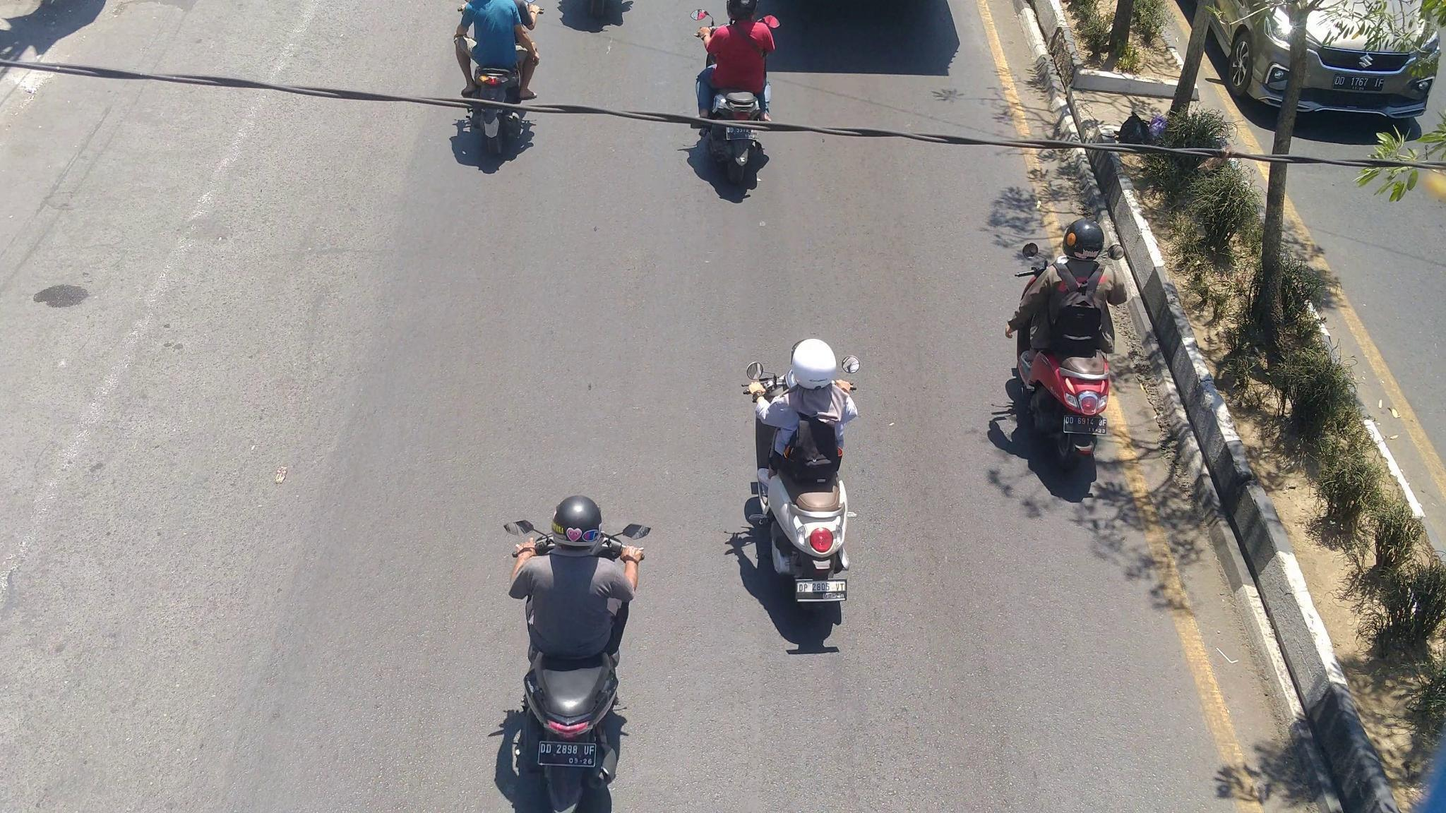Helmet: (543, 491, 611, 558), (787, 333, 840, 394), (1059, 211, 1109, 272), (721, 0, 760, 19)
bike: (506, 513, 655, 813), (742, 353, 866, 623), (1011, 239, 1129, 475), (687, 10, 783, 190), (453, 1, 547, 163)
number-plate: (533, 735, 598, 771), (792, 575, 846, 601), (1059, 410, 1108, 438), (725, 124, 757, 143)
rider: (514, 489, 644, 672), (1012, 218, 1131, 368), (749, 336, 861, 483), (695, 0, 777, 126), (453, 0, 539, 102)
